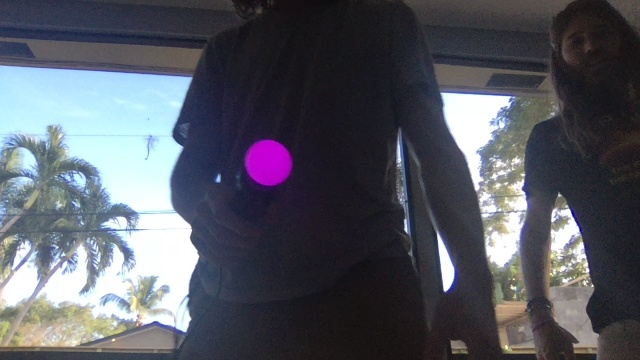wand: (247, 141, 292, 185)
